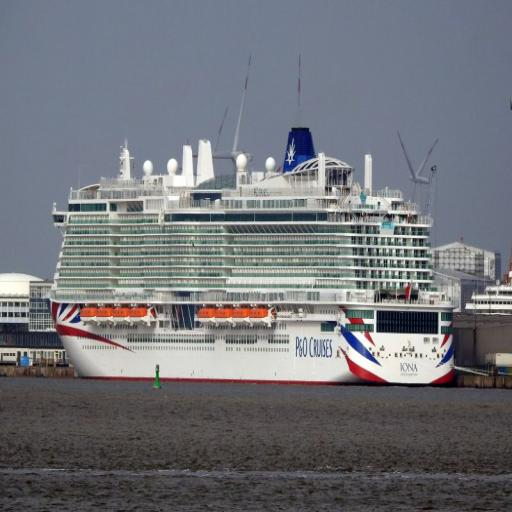cruises: (43, 126, 459, 392)
